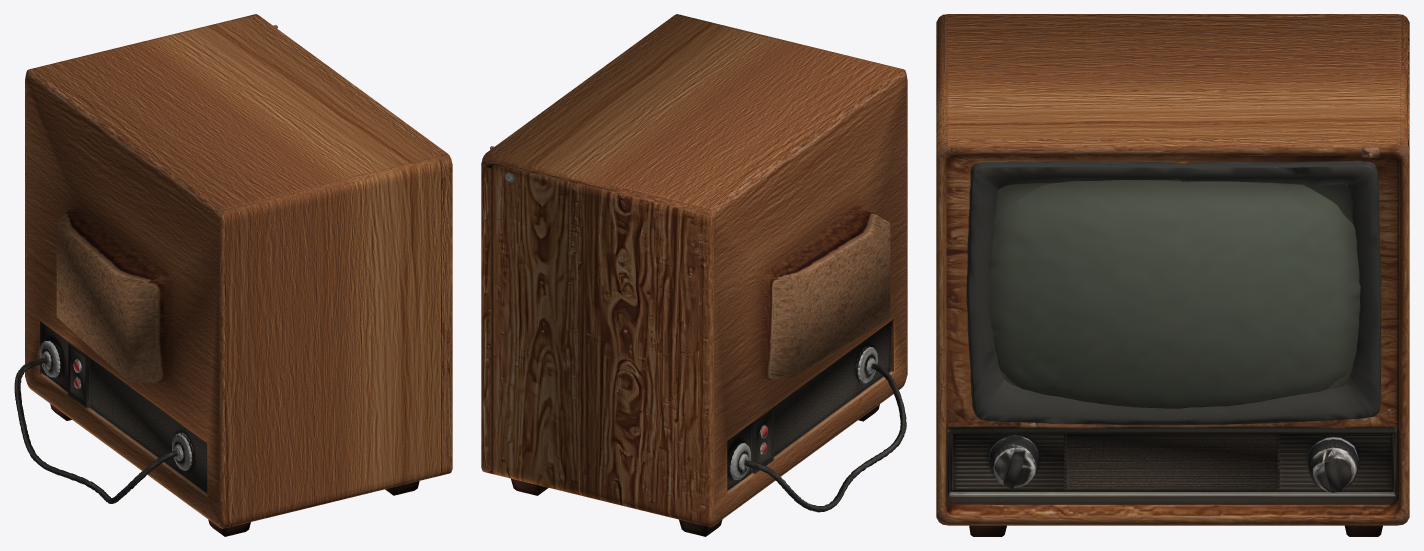
3 renders of one model, left to right at view 1: azimuth 30°, elevation 25°; view 2: azimuth 150°, elevation 25°; view 3: azimuth 270°, elevation 25°, orthographic. The views are drawn at different scales.
Parts seen in each view (by area): view 1: tripo_node_0c7a9b8a-e534-48e4-a199-65a655f25609; view 2: tripo_node_0c7a9b8a-e534-48e4-a199-65a655f25609; view 3: tripo_node_0c7a9b8a-e534-48e4-a199-65a655f25609.
Part boxes in pixels (x1,y1,x2,y2): tripo_node_0c7a9b8a-e534-48e4-a199-65a655f25609: (14, 14, 452, 536); tripo_node_0c7a9b8a-e534-48e4-a199-65a655f25609: (481, 14, 907, 536); tripo_node_0c7a9b8a-e534-48e4-a199-65a655f25609: (936, 14, 1409, 536).
Bounding box in the file's own units: 0.8965 × 0.9395 × 0.998.
Materials: 1 (1 with a texture image).
